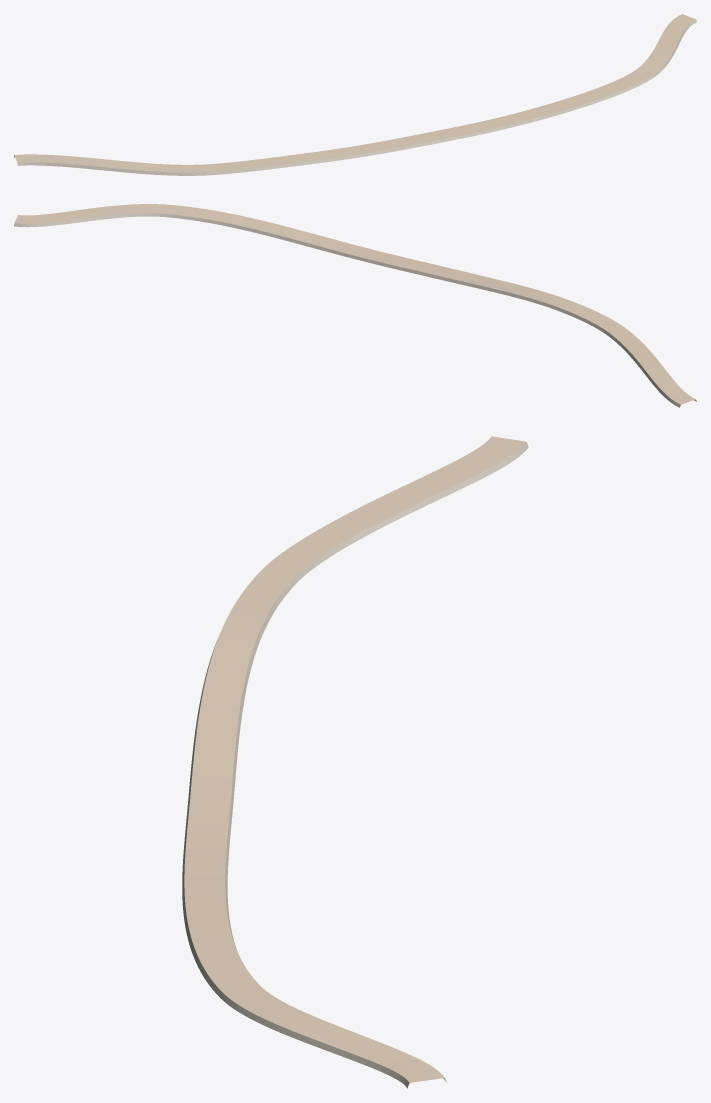
The model's file is SM_AsirMountains_Shortcut_WadiRun.fbx.
3 views of the same model, one above another, from view 1: azimuth 30°, elevation 25°; view 2: azimuth 150°, elevation 25°; view 3: azimuth 270°, elevation 25° (orthographic). The views are drawn at different scales.
Visible parts, largest first — view 1: SM_AsirMountains_Shortcut_WadiRun; view 2: SM_AsirMountains_Shortcut_WadiRun; view 3: SM_AsirMountains_Shortcut_WadiRun.
Part boxes in pixels (bbox=[...]): SM_AsirMountains_Shortcut_WadiRun: bbox=[14, 14, 696, 175]; SM_AsirMountains_Shortcut_WadiRun: bbox=[14, 204, 696, 407]; SM_AsirMountains_Shortcut_WadiRun: bbox=[182, 436, 528, 1088].
Size of the model in its own units: 40866 by 622 by 9309.
